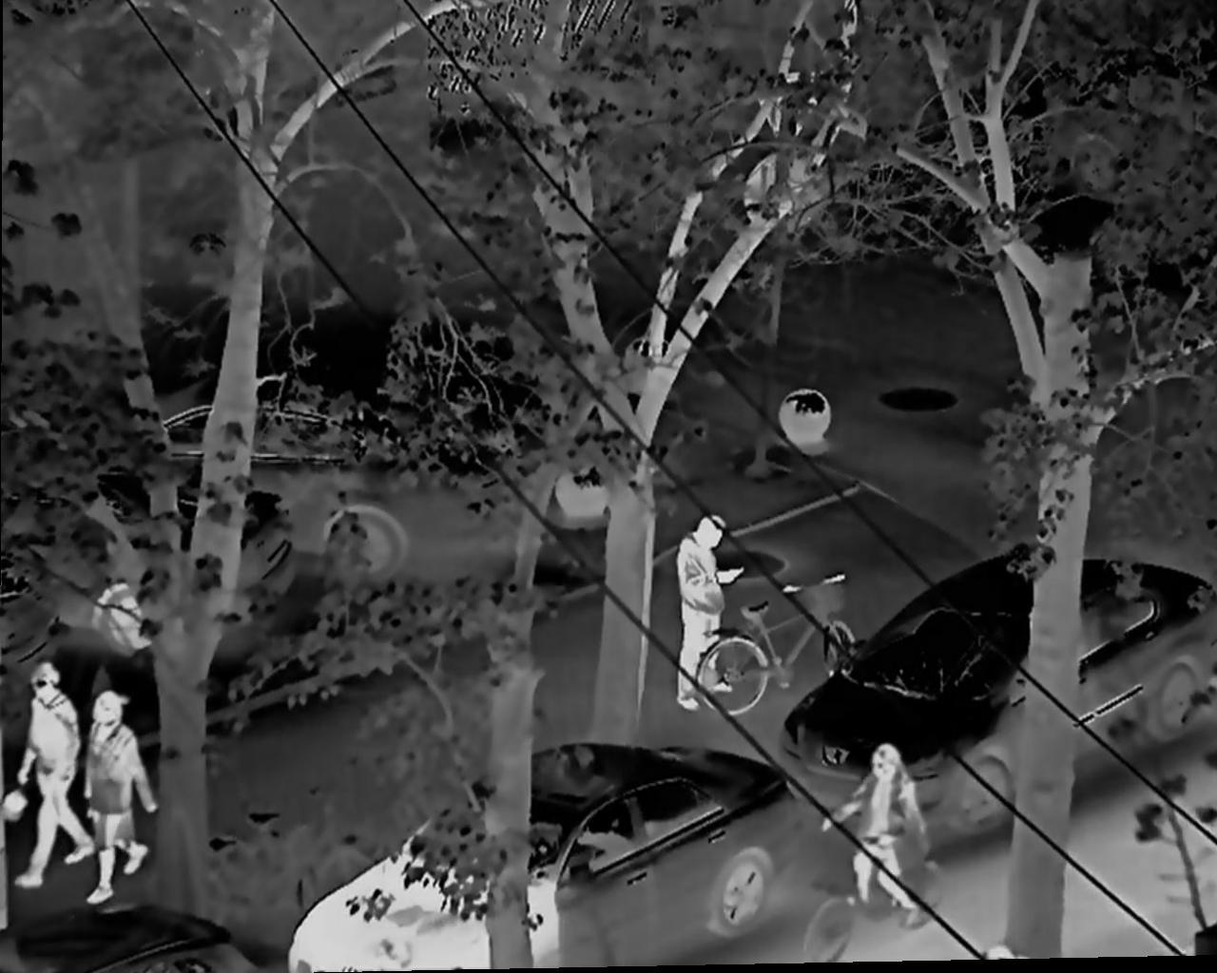person: (819, 741, 937, 929), (4, 658, 92, 890), (78, 690, 161, 907), (671, 513, 748, 713)
